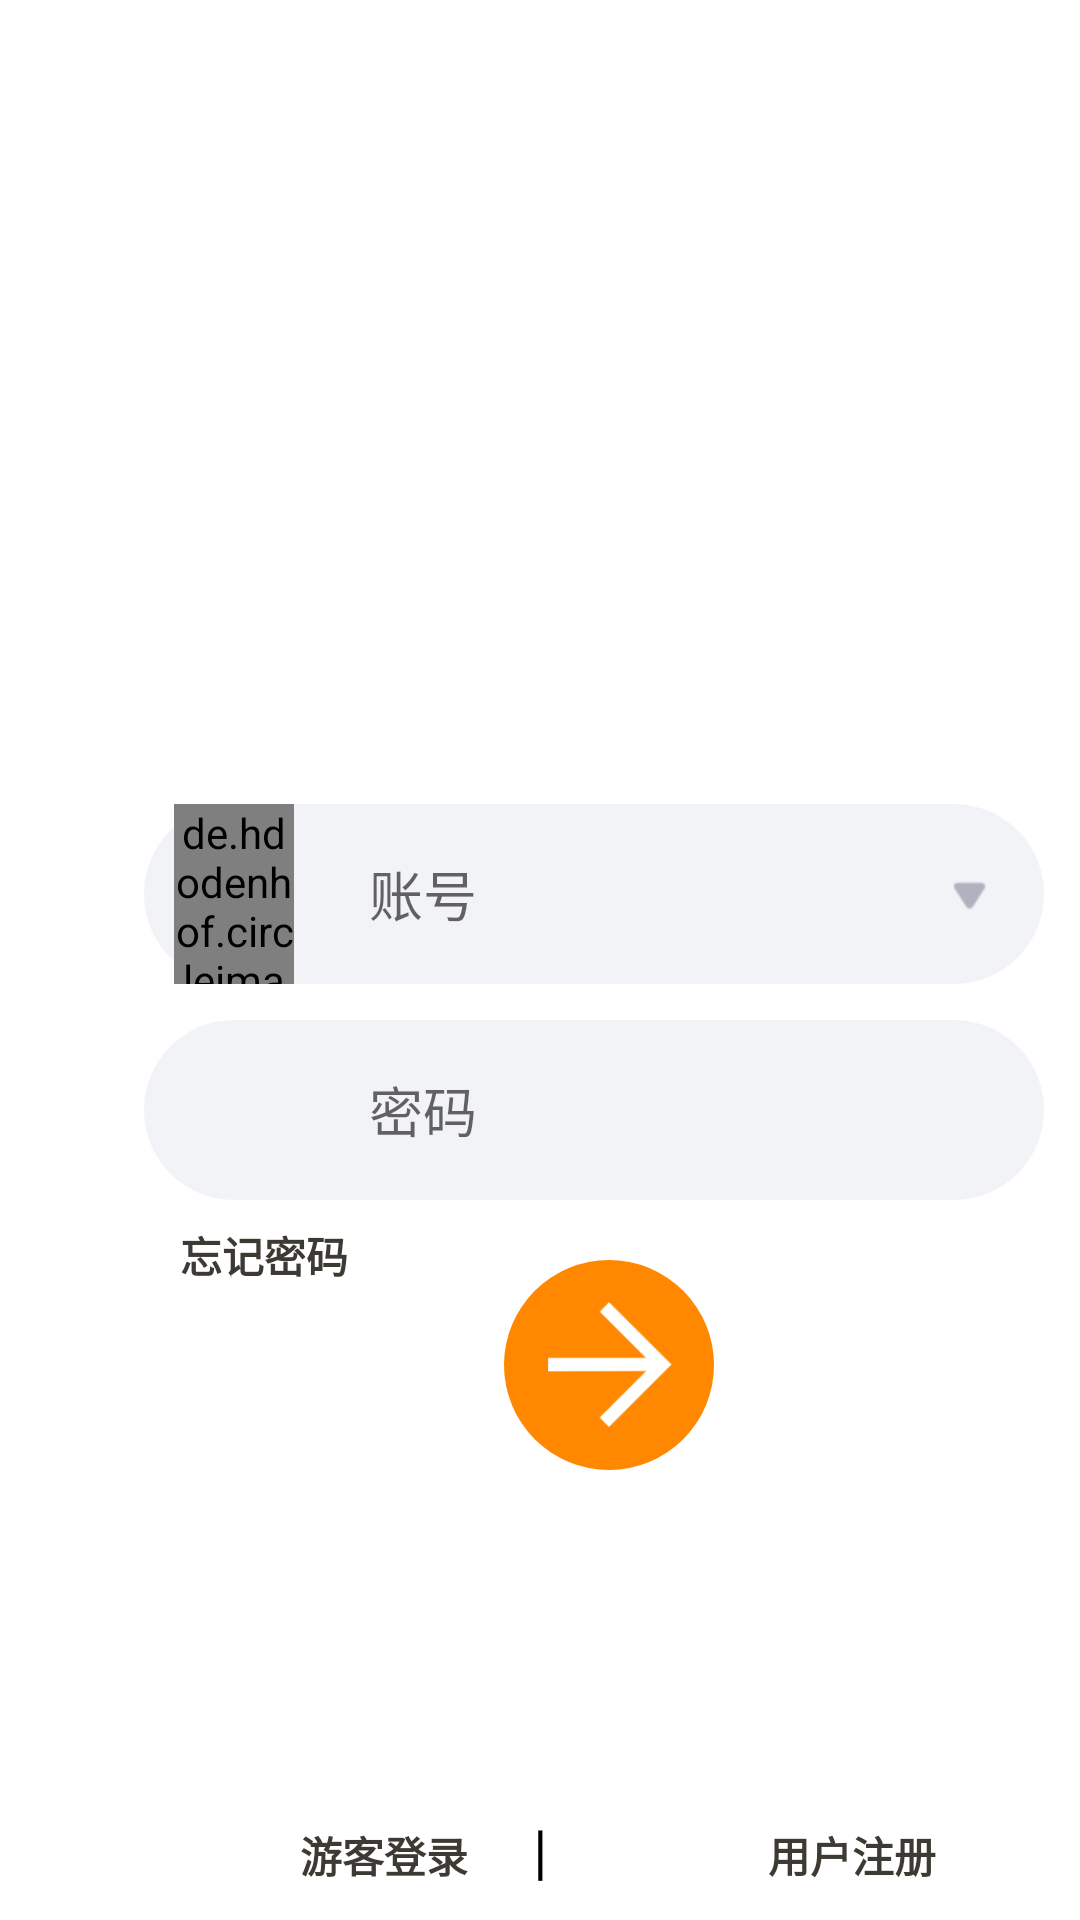

Where to tap for icons on this 1080 × 1920 app screen, as (x=x, y=y):
arrow down login: (x=969, y=895)
right arrow: (x=609, y=1365)
